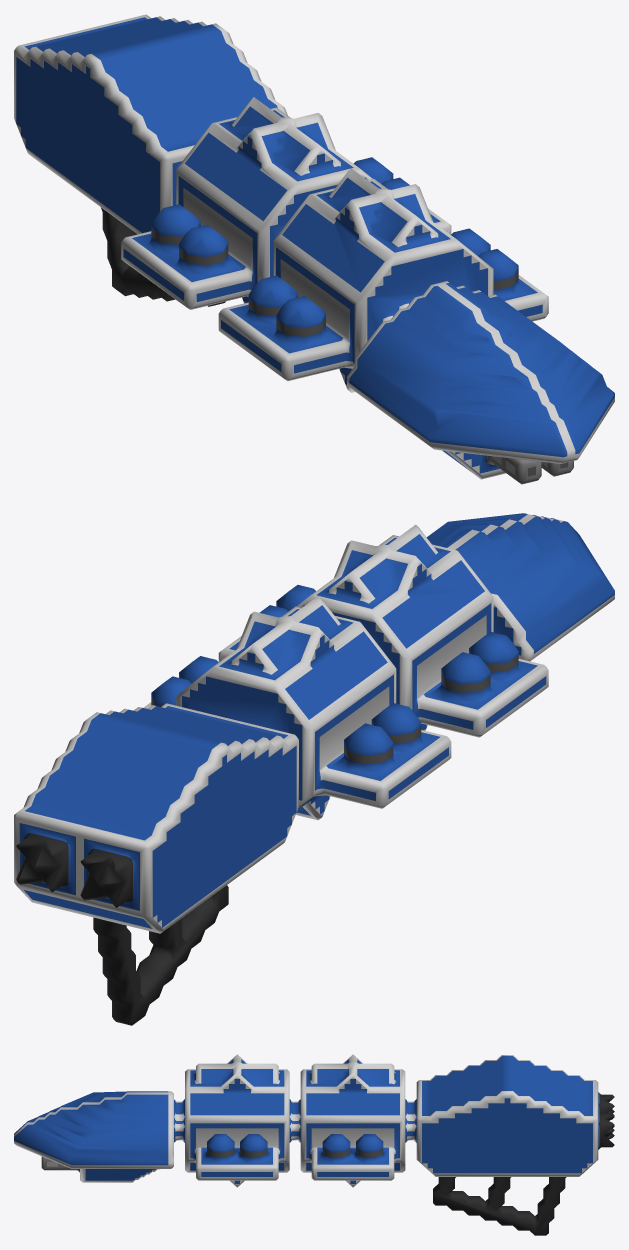
File: diadochi-3-chernobog-class.obj
3 renders of one model, top to bottom at view 1: azimuth 30°, elevation 25°; view 2: azimuth 150°, elevation 25°; view 3: azimuth 270°, elevation 25°, orthographic. The views are drawn at different scales.
Bounding box in the file's own units: 33 × 34 × 109.
Materials: 1 (1 with a texture image).
